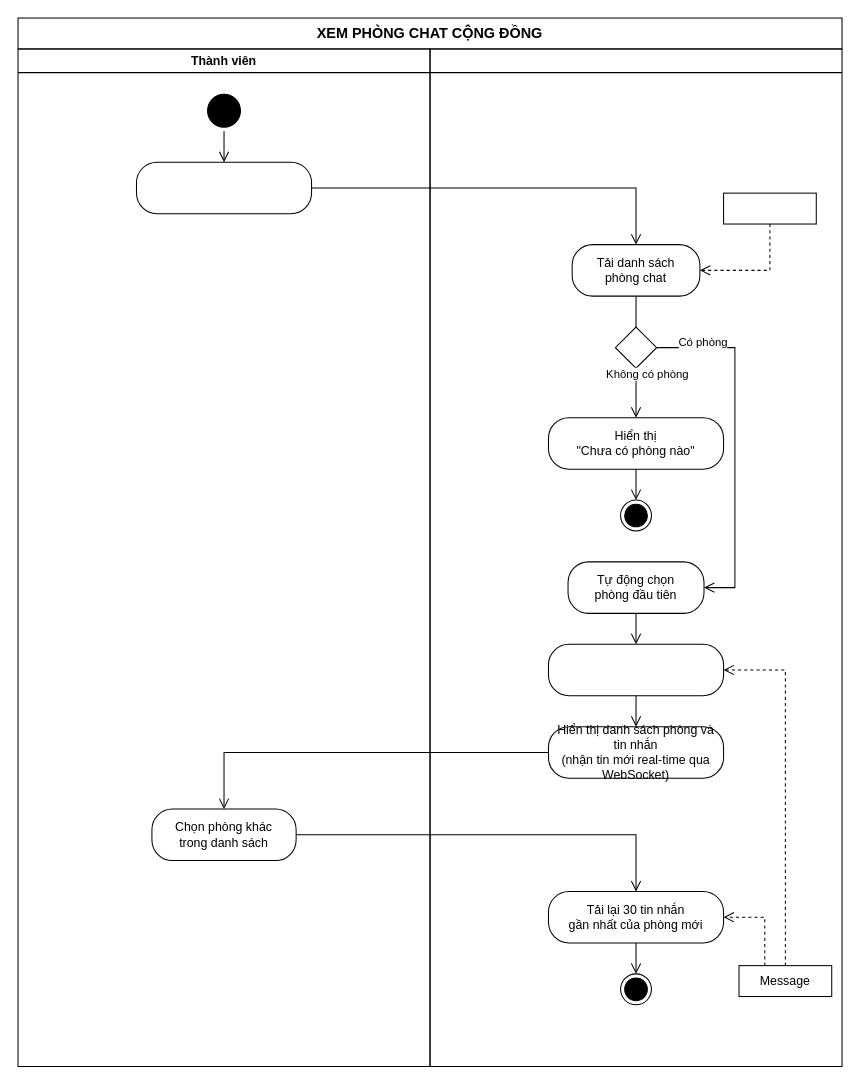
Image size: 860x1085. Some labels were removed from this diagram. The box of each missing label's shape, as (x1, y1, x2, y2) in pixels:
ChatRoom: (723, 192, 816, 224)
Hệ thống: (429, 48, 842, 1067)
Nhấn mục "Phòng Chat" trên thanh điều hướng: (135, 161, 312, 214)
Tải 30 tin nhắn gần nhất (cũ → mới): (547, 643, 724, 696)
